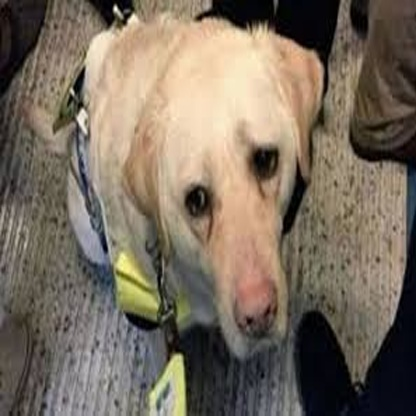guide-dog: (45, 11, 335, 369)
